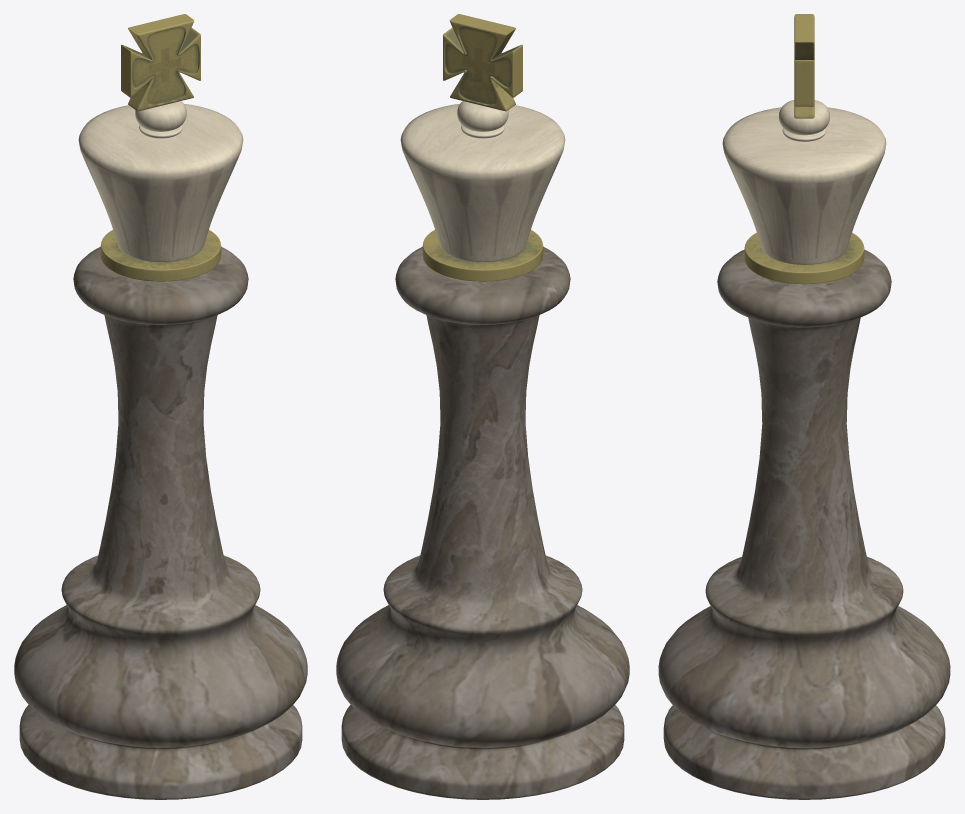
The model's file is W_King.glb.
3 views of the same model, side by side, from view 1: azimuth 30°, elevation 25°; view 2: azimuth 150°, elevation 25°; view 3: azimuth 270°, elevation 25° (orthographic).
Parts seen in each view (by area): view 1: King_W; view 2: King_W; view 3: King_W.
Part boxes in pixels (x1=…): King_W: x1=14, y1=14, x2=307, y2=799; King_W: x1=336, y1=14, x2=629, y2=799; King_W: x1=658, y1=14, x2=950, y2=799.
Size of the model in its own units: 0.0561 by 0.1515 by 0.0561.
Materials: 1 (1 with a texture image).
